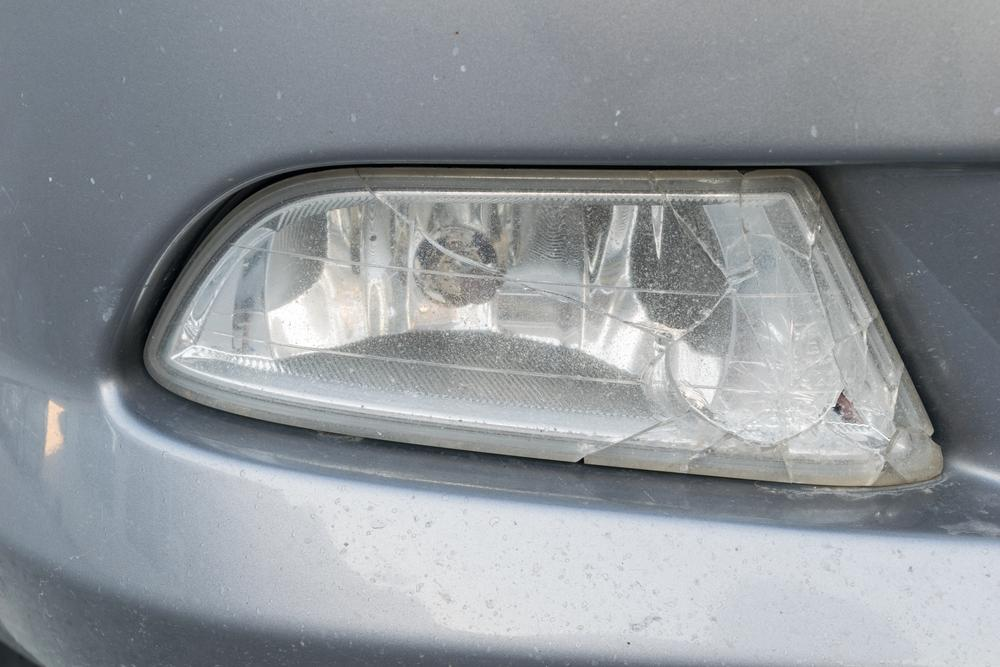lamp broken: (141, 164, 947, 487)
